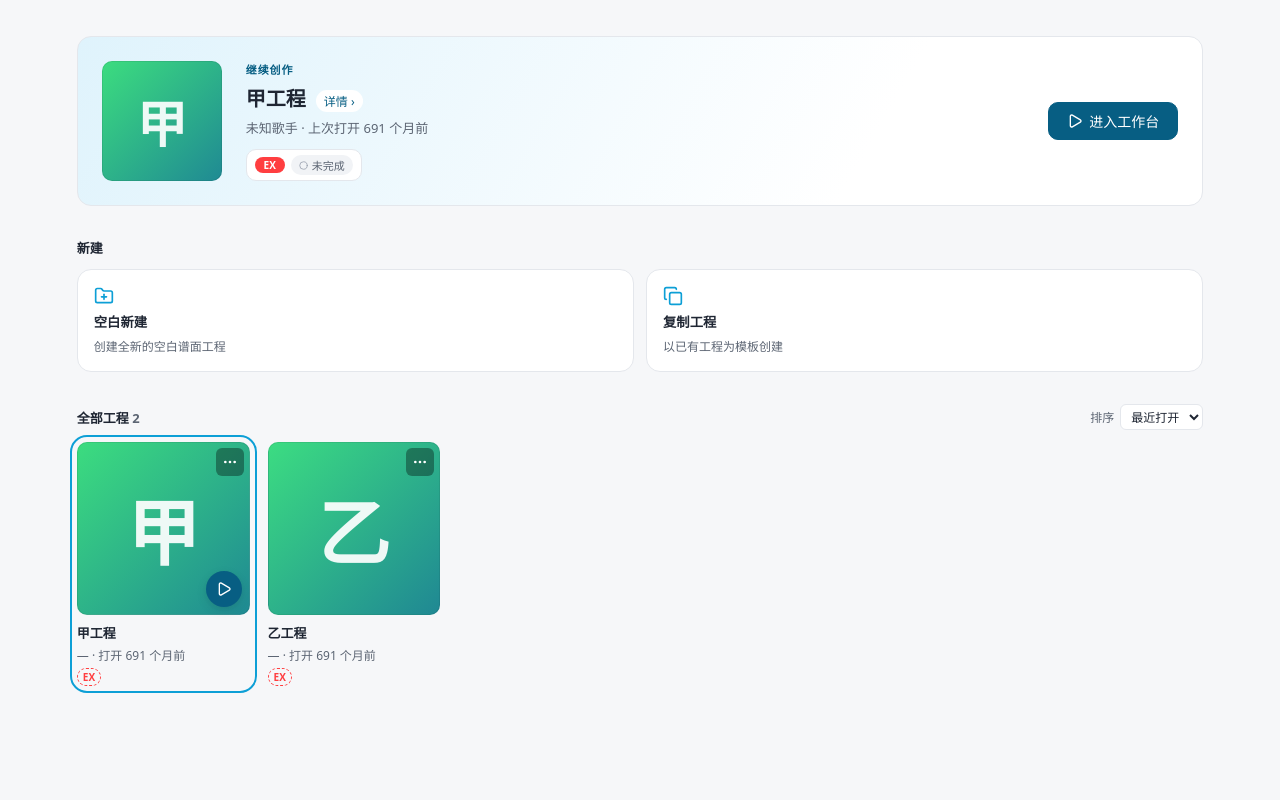
Test: chart-projects 票 32 · 复制入口收归 hub › hub 卡片 ⋯ 菜单仍有「复制工程」项
Check: the element showing "甲 甲工程 — · 打开 691 个月前 EX" is shown, box [77,442,250,686]
Step 1. Click the 1st button titled "更多" → (230, 462), box [216,448,244,476]
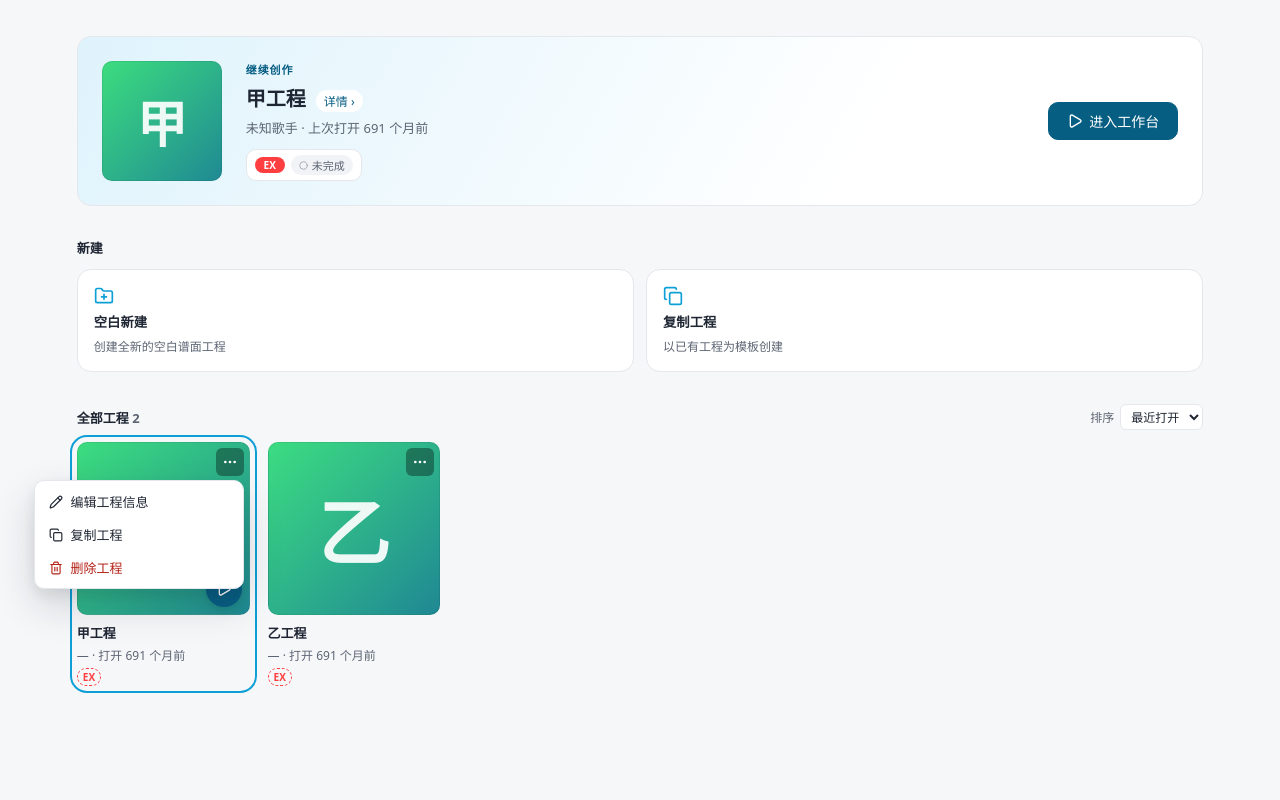
Check: the button "复制工程" is shown, box [38,518,238,551]
